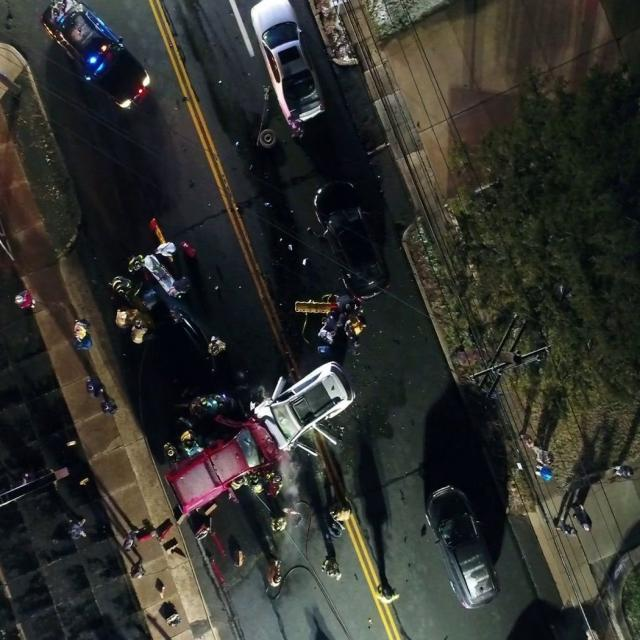traffic_incident: (152, 230, 382, 600)
